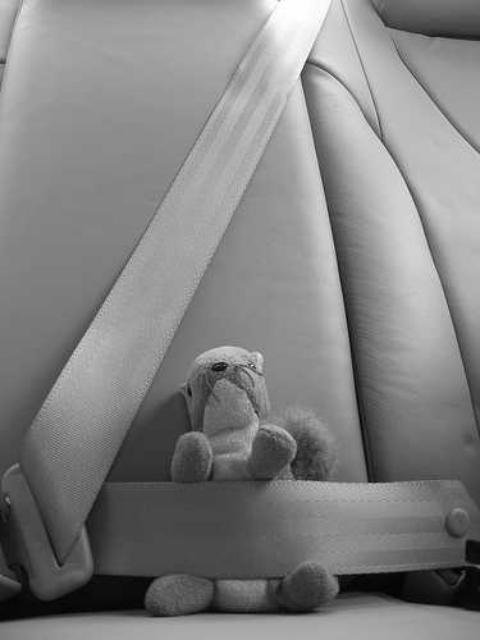Seatbelt: (0, 1, 478, 580)
